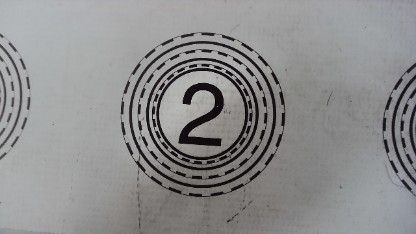2r: (119, 31, 286, 195)
